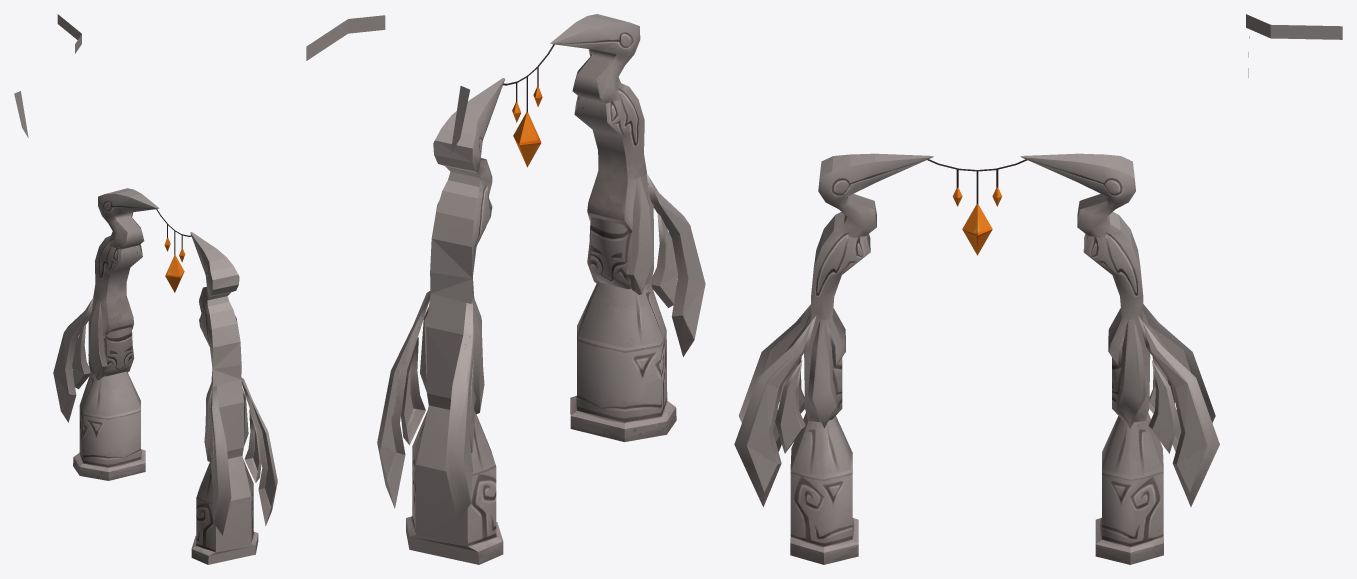
Rendered from Bird pillar.FBX.
3 renders of one model, left to right at view 1: azimuth 30°, elevation 25°; view 2: azimuth 150°, elevation 25°; view 3: azimuth 270°, elevation 25°, orthographic. The views are drawn at different scales.
Parts seen in each view (by area): view 1: bird pillar arch; view 2: bird pillar arch; view 3: bird pillar arch.
Part boxes in pixels (x1,y1,x2,y2): bird pillar arch: (14,14,277,564); bird pillar arch: (306,14,705,564); bird pillar arch: (734,14,1342,564).
Size of the model in its own units: 119 by 505 by 523.
